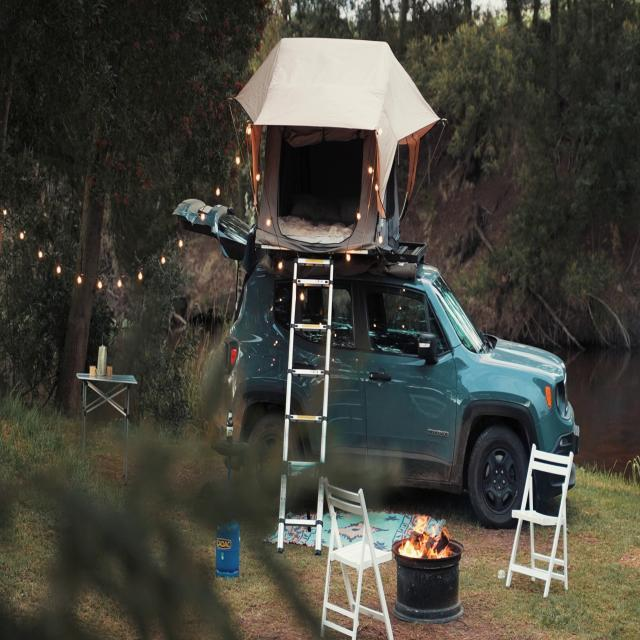Fire: (401, 506, 450, 560)
